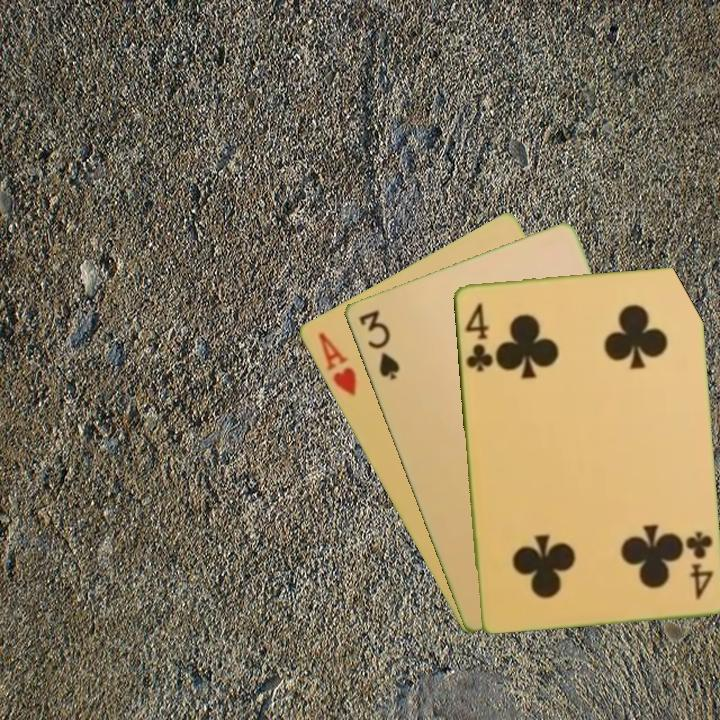3s: (354, 306, 402, 383)
4c: (461, 299, 496, 374), (681, 527, 716, 602)
Ah: (314, 328, 359, 399)
